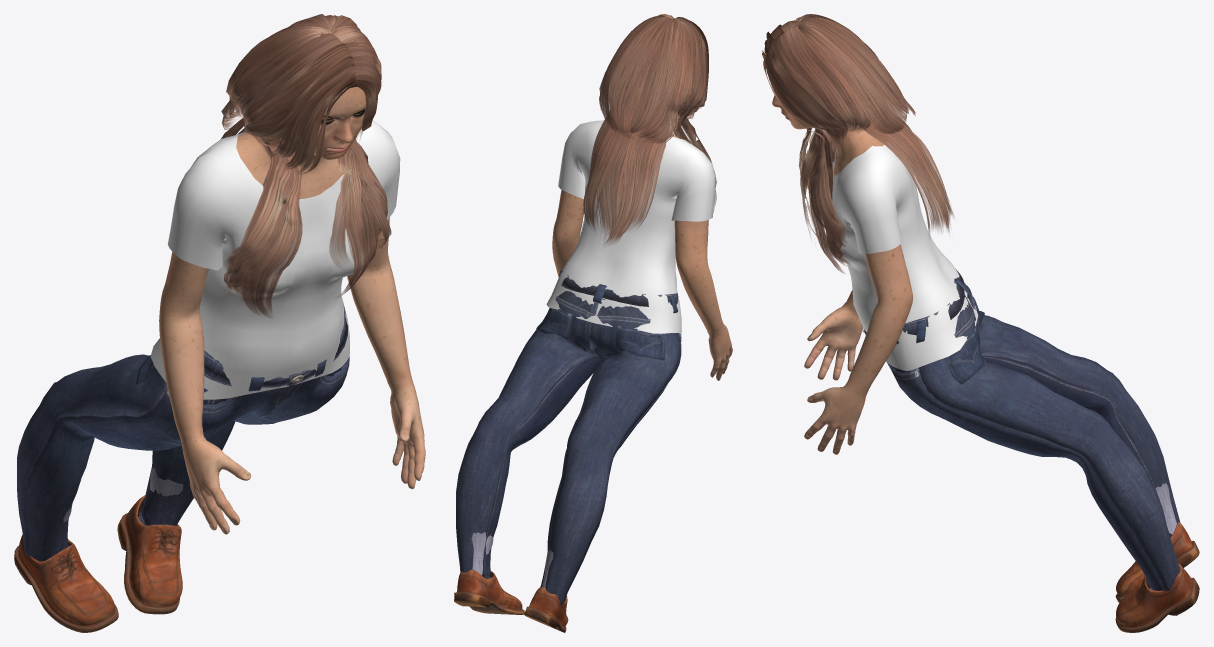
The model's file is donna-05.glb.
3 views of the same model, side by side, from view 1: azimuth 30°, elevation 25°; view 2: azimuth 150°, elevation 25°; view 3: azimuth 270°, elevation 25° (orthographic). The views are drawn at different scales.
Parts seen in each view (by area): view 1: Human.joepal_crude_t-shirt_female, Human.elvs_daisy_hair, Human.punkduck_female_tight_jeans, Human, Human.shoes01; view 2: Human.punkduck_female_tight_jeans, Human.elvs_daisy_hair, Human.joepal_crude_t-shirt_female, Human, Human.shoes01; view 3: Human.punkduck_female_tight_jeans, Human.elvs_daisy_hair, Human.joepal_crude_t-shirt_female, Human, Human.shoes01.
Part boxes in pixels (bbox=[...]): Human.joepal_crude_t-shirt_female: bbox=[150, 119, 400, 399]; Human.elvs_daisy_hair: bbox=[220, 14, 391, 317]; Human.punkduck_female_tight_jeans: bbox=[17, 297, 349, 561]; Human: bbox=[159, 33, 425, 534]; Human.shoes01: bbox=[14, 468, 183, 632]; Human.punkduck_female_tight_jeans: bbox=[456, 270, 681, 604]; Human.elvs_daisy_hair: bbox=[583, 14, 716, 244]; Human.joepal_crude_t-shirt_female: bbox=[546, 120, 715, 333]; Human: bbox=[552, 63, 732, 380]; Human.shoes01: bbox=[454, 532, 568, 632]; Human.punkduck_female_tight_jeans: bbox=[861, 268, 1180, 591]; Human.elvs_daisy_hair: bbox=[762, 14, 954, 273]; Human.joepal_crude_t-shirt_female: bbox=[826, 142, 978, 370]; Human: bbox=[772, 95, 912, 454]; Human.shoes01: bbox=[1115, 483, 1199, 632].
Bounding box in the file's own units: 0.435 × 1.33 × 0.8924.
13 materials, 13 textured.
